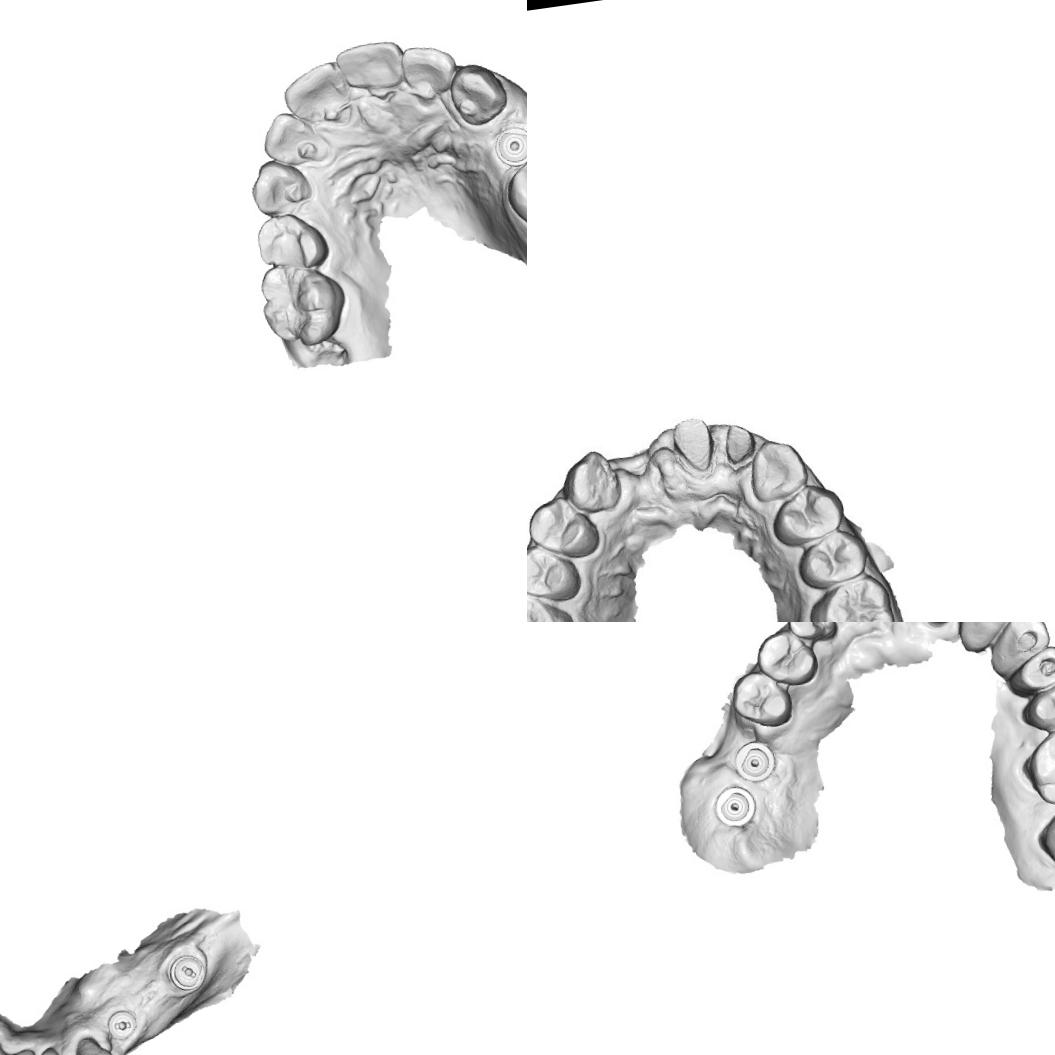canine: (246, 153, 317, 220), (560, 448, 626, 518), (742, 434, 808, 504), (447, 58, 512, 129), (985, 622, 1055, 673), (781, 622, 840, 645), (70, 1033, 121, 1055)
crown: (666, 406, 720, 480), (718, 420, 764, 472)
implant: (712, 781, 760, 830), (732, 737, 778, 784), (489, 122, 527, 172)
implant_minus: (166, 951, 208, 994), (104, 1007, 140, 1042)
incisor: (278, 58, 354, 132), (332, 36, 410, 104), (396, 36, 461, 106), (256, 106, 321, 172), (959, 622, 1022, 641), (25, 1042, 77, 1055)
molar: (252, 256, 354, 356), (805, 572, 898, 622), (1018, 719, 1055, 813), (499, 134, 527, 240), (527, 582, 583, 622), (1035, 790, 1055, 880)
premolar: (790, 524, 876, 591), (527, 492, 605, 565), (764, 479, 844, 547), (252, 207, 332, 273), (752, 624, 822, 692), (727, 665, 796, 733), (527, 541, 580, 608), (1002, 642, 1055, 698), (1015, 677, 1055, 737)
